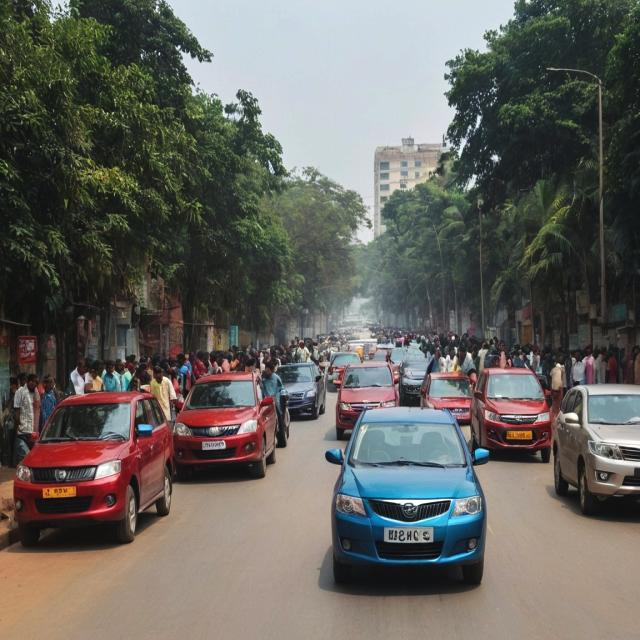blue: (326, 400, 489, 589), (274, 364, 327, 424)
maroon: (13, 394, 174, 540), (170, 368, 276, 480), (475, 366, 551, 456), (333, 360, 398, 436), (422, 374, 474, 435)
silver: (545, 379, 640, 522)
